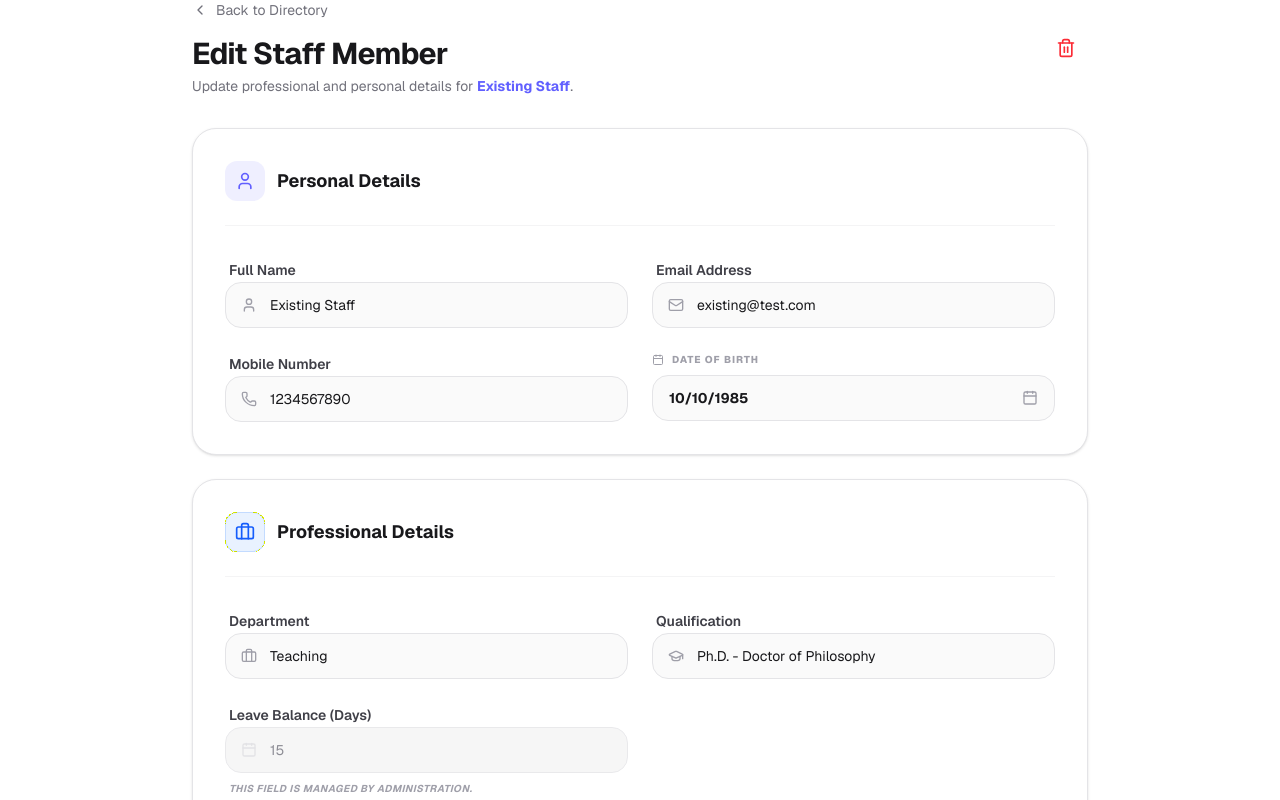
Test: EditStaffPage › successfully updates staff profile
// Update name
Replace the text in the field showing "Existing Staff" below "Full Name" with "Updated Staff": (426, 305) [225,282,628,328]
(page scrolled)
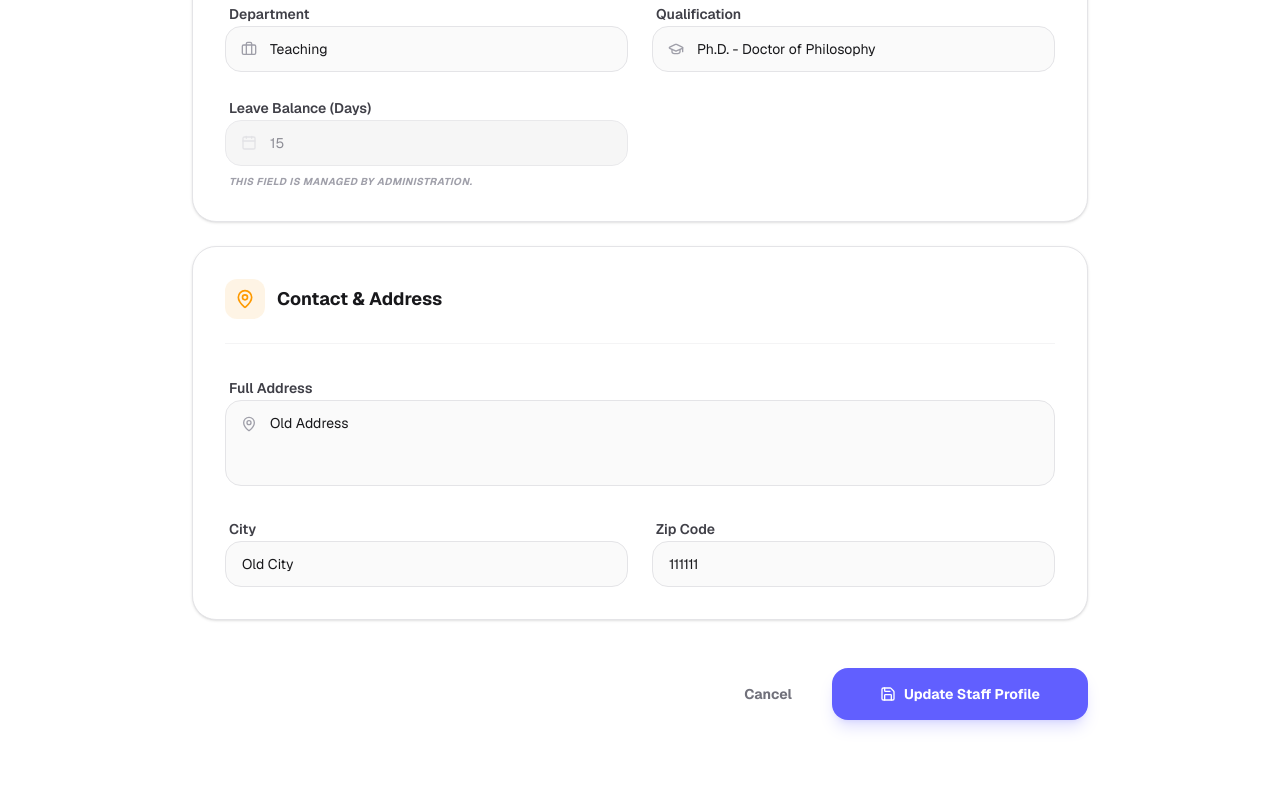
Click the button "Update Staff Profile": (960, 694) [832,668,1088,720]
Wait 2000 ms
(page scrolled)
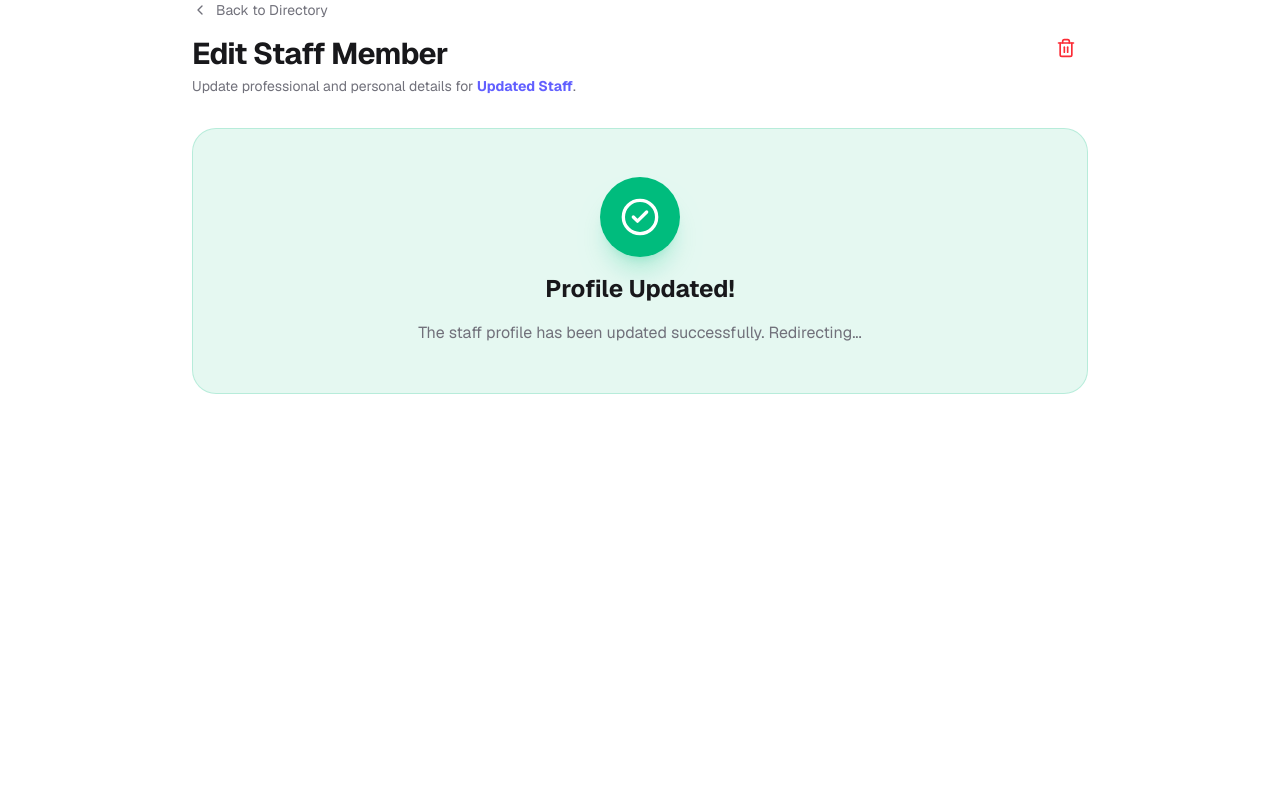
Result: the heading "Profile Updated!" is shown at [545,273,735,304]
